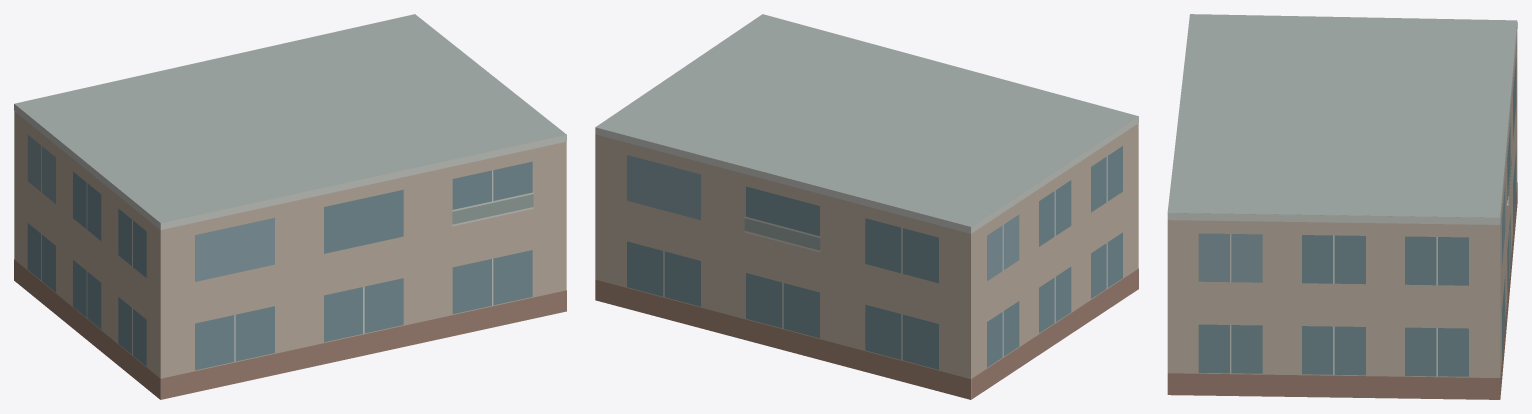
Rendered from survey-upis-32856998.glb.
3 renders of one model, left to right at view 1: azimuth 30°, elevation 25°; view 2: azimuth 150°, elevation 25°; view 3: azimuth 270°, elevation 25°, orthographic. The views are drawn at different scales.
Visible parts, largest first — view 1: survey-upis-32856998.tmp; view 2: survey-upis-32856998.tmp; view 3: survey-upis-32856998.tmp.
Part boxes in pixels (x1,y1,x2,y2): survey-upis-32856998.tmp: (14,14,566,399); survey-upis-32856998.tmp: (595,14,1138,399); survey-upis-32856998.tmp: (1167,14,1517,399).
Bounding box in the file's own units: 14.64 × 6.1 × 10.63.
